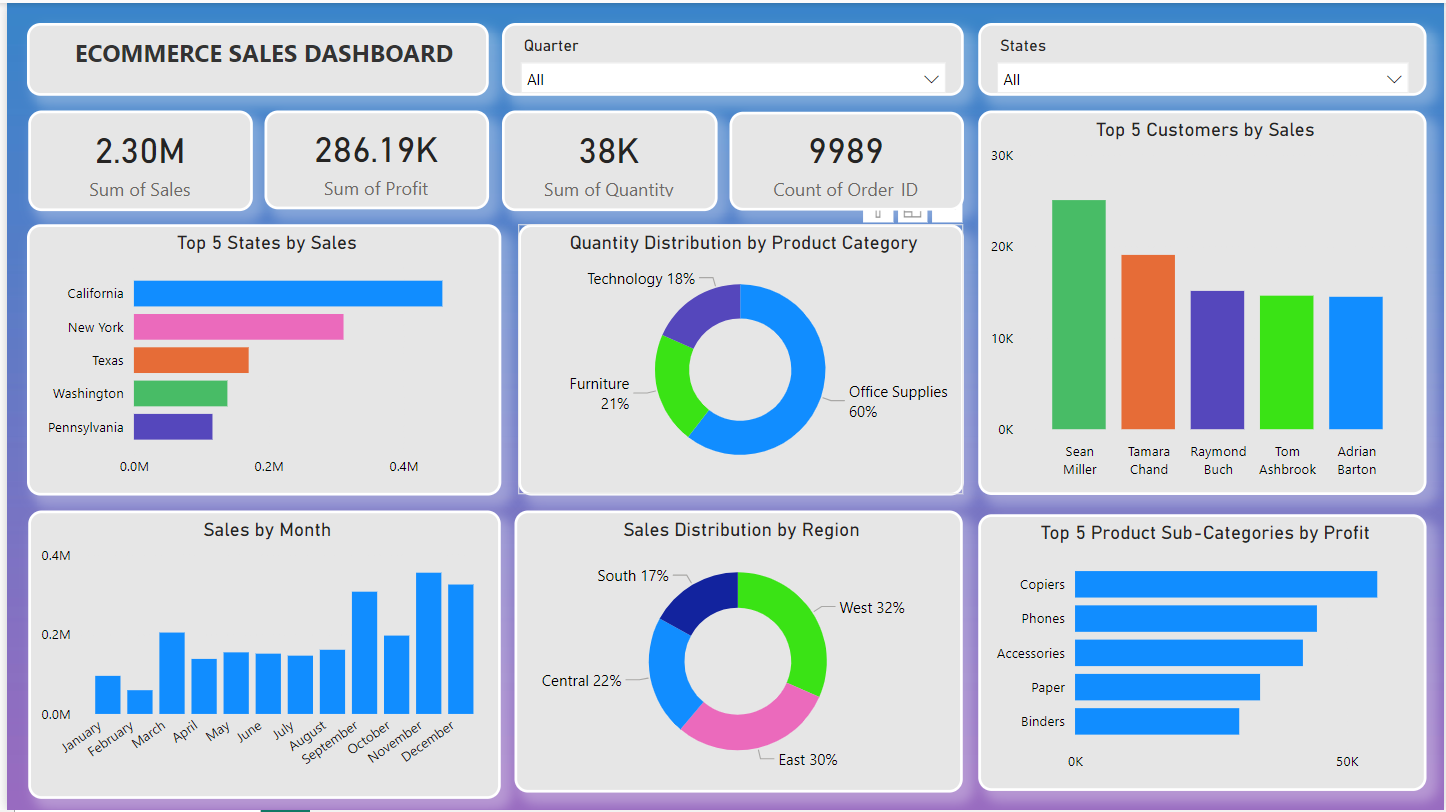

What the dashboard file says about the page in this screenshot:
{"tool":"powerbi","page":{"name":"Ecommerce Sales Dashboard","canvas":[1280,720],"ordinal":0},"visuals":[{"type":"columnChart","title":"Sales by Month","fields":{"Category":["Store.Order_Date.Variation.Date Hierarchy.Month"],"Y":["Store.Sales"]},"box":[19.3,452.4,421,257],"z":0},{"type":"barChart","title":"Top 5 Product Sub-Categories by Profit","fields":{"Category":["Store.Sub_Category"],"Y":["Store.Profit"]},"box":[865,454.8,399.3,246.1],"z":1000},{"type":"donutChart","title":"Quantity Distribution by Product Category","fields":{"Category":["Store.Category"],"Y":["Store.Quantity"]},"box":[454.8,196.6,396.9,241.3],"z":2000},{"type":"donutChart","title":"Sales Distribution by Region","fields":{"Category":["Store.Region"],"Y":["Store.Sales"]},"box":[452.4,452.4,399.3,250.9],"z":3000},{"type":"card","fields":{"Values":["Store.Sales"]},"box":[19.3,95.3,200.3,89.3],"z":4000},{"type":"card","fields":{"Values":["Store.Profit"]},"box":[229.2,95.3,200.3,88.1],"z":5000},{"type":"card","fields":{"Values":["Store.Quantity"]},"box":[440.4,95.3,191.8,89.3],"z":6000},{"type":"card","fields":{"Values":["Store.Order_ID"]},"box":[643,96.5,208.7,88.1],"z":7000},{"type":"barChart","title":"Top 5 States by Sales","fields":{"Y":["Store.Sales"],"Category":["Store.States"]},"box":[18.1,196.6,422.3,241.3],"z":8000},{"type":"columnChart","title":"Top 5 Customers by Sales","fields":{"Category":["Store.Customer_Name"],"Y":["Store.Sales"]},"box":[865,95.3,399.3,342.6],"z":9000},{"type":"textbox","box":[18.1,18.1,411.4,65.1],"z":10000},{"type":"slicer","fields":{"Values":["Store.Order_Date.Variation.Date Hierarchy.Quarter"]},"box":[440.4,18.1,411.4,65.1],"z":11000},{"type":"slicer","fields":{"Values":["Store.States"]},"box":[865,18.1,399.3,65.1],"z":12000}]}

Visuals, with their boxes in screenshot pixels (x1, y1, x2, y2), scaled from the page's 1280x720 canvas onto the 1446x812 screenshot:
"Sales by Month" columnChart: detection(22, 510, 497, 800)
"Top 5 Product Sub-Categories by Profit" barChart: detection(977, 513, 1428, 790)
"Quantity Distribution by Product Category" donutChart: detection(514, 222, 962, 494)
"Sales Distribution by Region" donutChart: detection(511, 510, 962, 793)
card - Store.Sales: detection(22, 107, 248, 208)
card - Store.Profit: detection(259, 107, 485, 207)
card - Store.Quantity: detection(498, 107, 714, 208)
card - Store.Order_ID: detection(726, 109, 962, 208)
"Top 5 States by Sales" barChart: detection(20, 222, 498, 494)
"Top 5 Customers by Sales" columnChart: detection(977, 107, 1428, 494)
textbox: detection(20, 20, 485, 94)
slicer - Store.Order_Date.Variation.Date Hierarchy.Quarter: detection(498, 20, 962, 94)
slicer - Store.States: detection(977, 20, 1428, 94)
